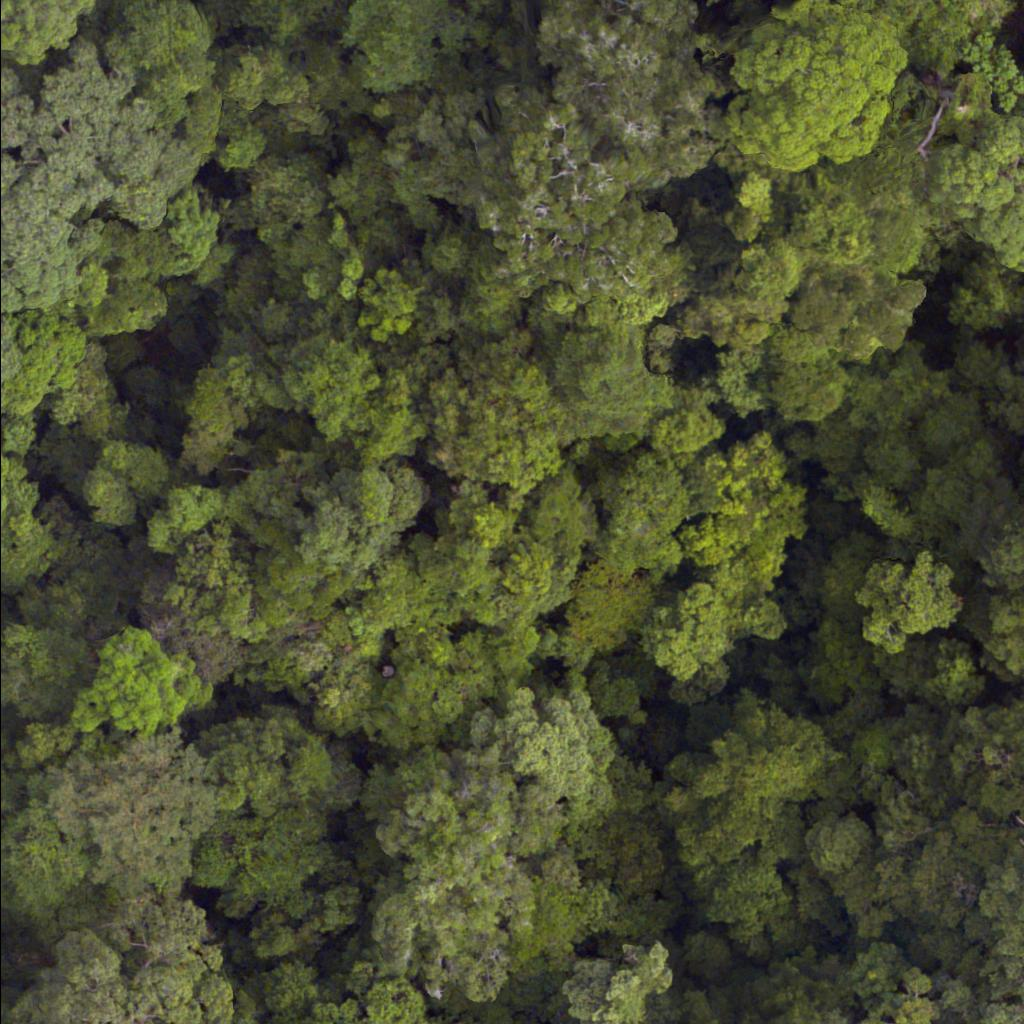crown: (436, 2, 746, 283), (0, 45, 200, 330), (669, 706, 840, 942), (719, 0, 930, 183), (41, 736, 217, 912), (230, 449, 429, 586), (432, 328, 571, 496), (679, 432, 810, 608), (15, 904, 205, 1023), (83, 622, 215, 735), (543, 328, 663, 449), (936, 125, 1023, 277), (852, 549, 962, 661), (954, 855, 1023, 1009), (641, 580, 740, 685), (573, 0, 720, 22), (0, 327, 20, 443), (1006, 794, 1023, 843), (824, 1015, 838, 1023)
